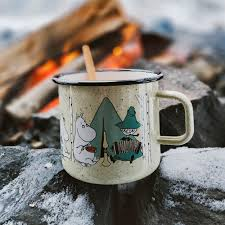mug: (37, 55, 200, 194)
